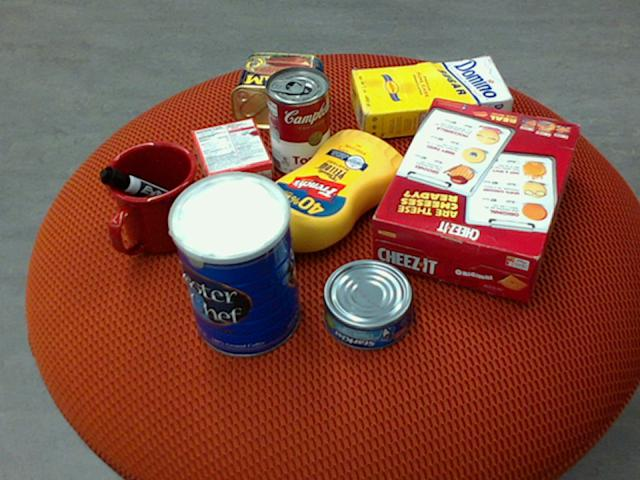cracker_box: (372, 96, 581, 300)
gelatin_box: (190, 117, 272, 195)
large_marker: (98, 166, 197, 218)
master_chef_can: (163, 172, 300, 358)
mug: (102, 141, 202, 254)
mustard_bottle: (248, 129, 407, 260)
potted_meat_can: (231, 53, 325, 130)
sugar_box: (350, 55, 514, 139)
tomato_soup_can: (265, 65, 330, 176)
tuna_fish_can: (323, 259, 414, 351)
